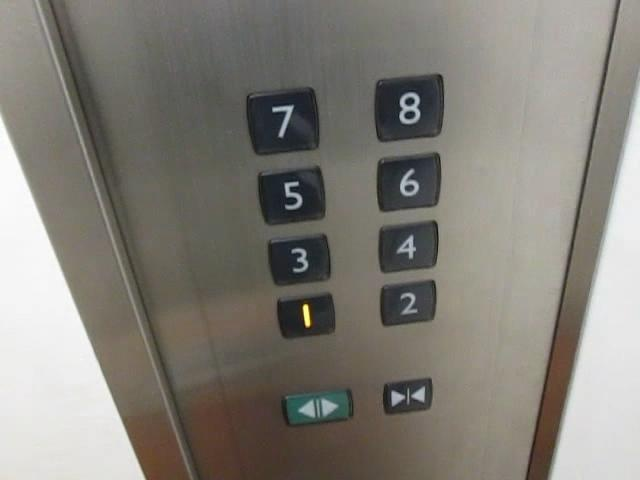1: (274, 291, 338, 340)
2: (377, 277, 438, 330)
3: (268, 233, 330, 286)
4: (378, 218, 438, 274)
5: (256, 165, 326, 225)
6: (376, 151, 442, 213)
7: (245, 87, 319, 156)
8: (373, 73, 445, 143)
close: (379, 375, 436, 416)
open: (283, 385, 355, 427)
